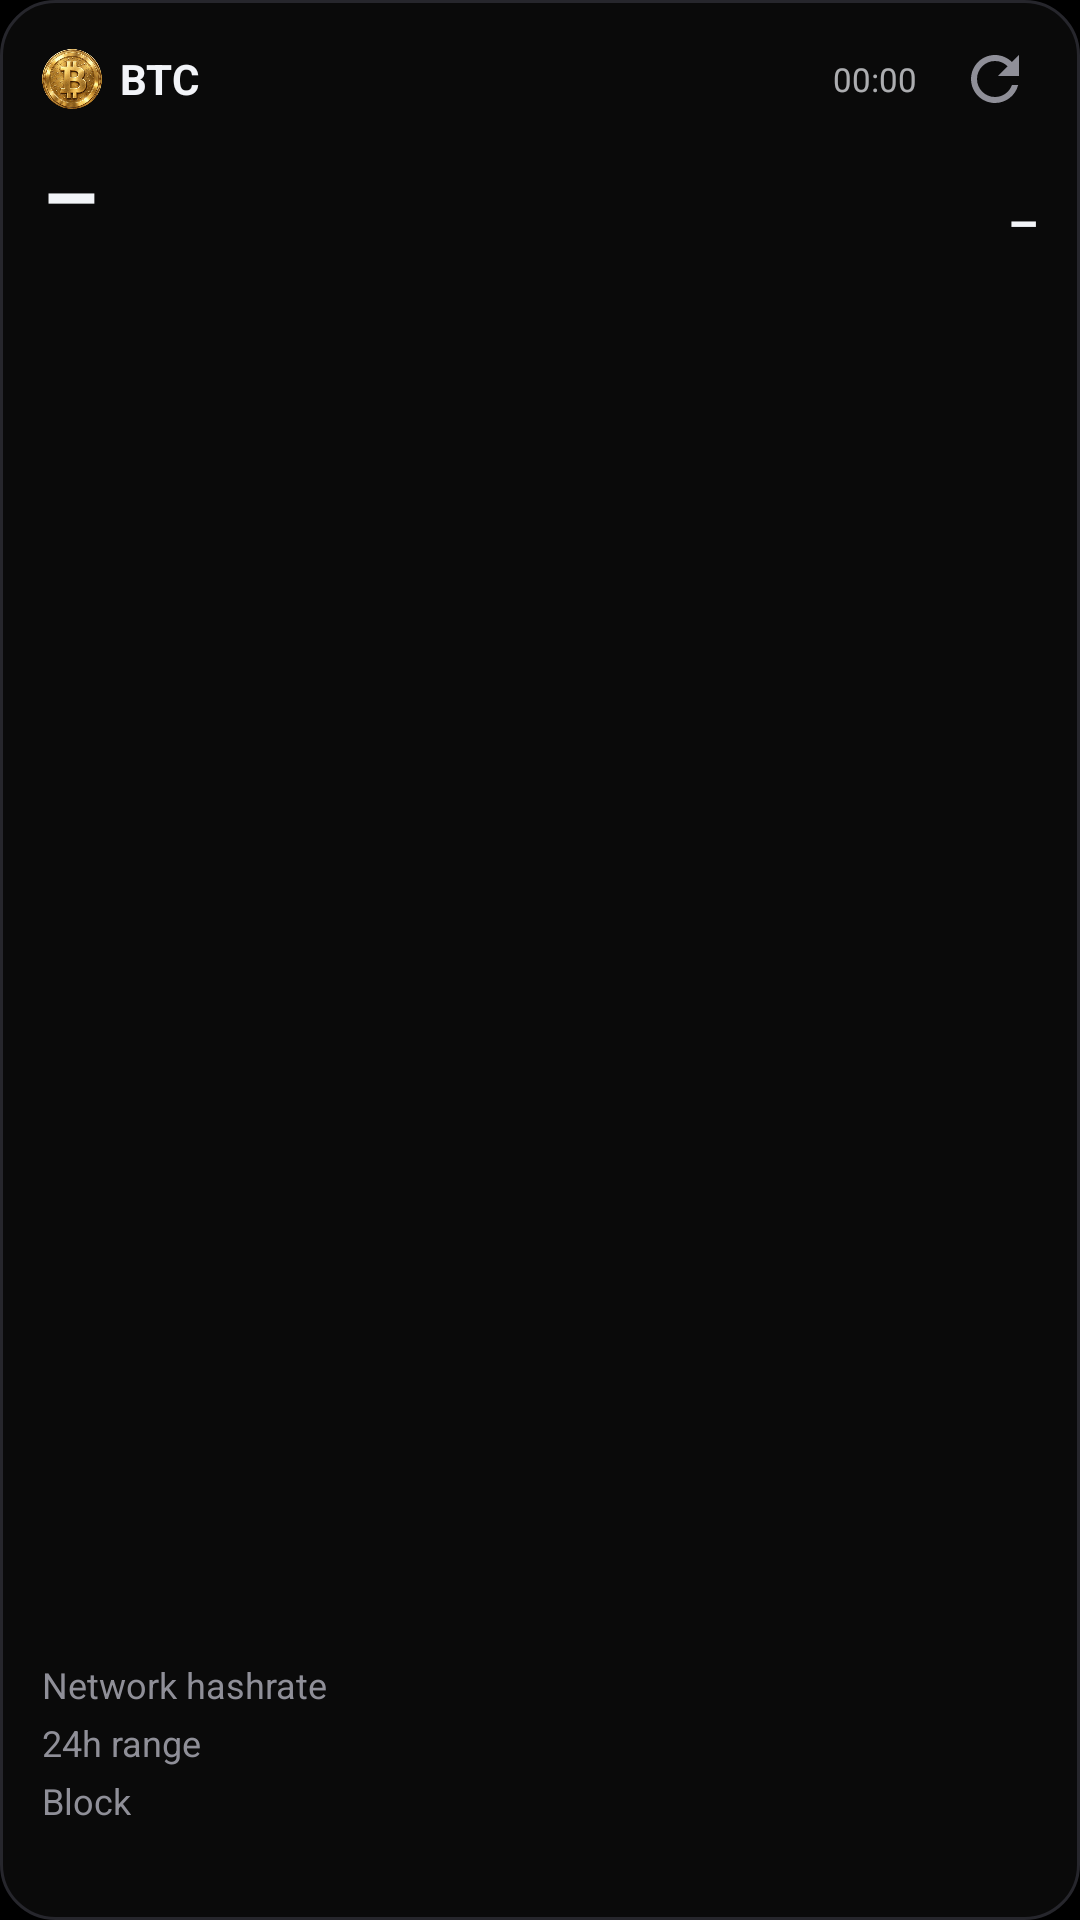

Icons on this 1080 × 1920 Android screen, each with its box as (x1, y1, x2, y2):
xbt refresh: (971, 55, 1019, 103)
